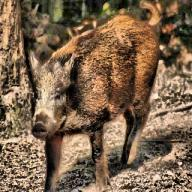boar: (27, 0, 161, 191)
